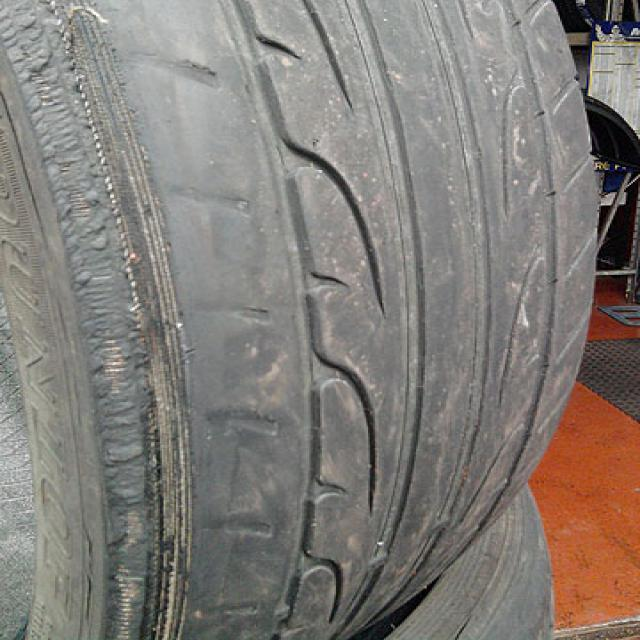Flat spots: (0, 0, 281, 639), (288, 0, 538, 482)
